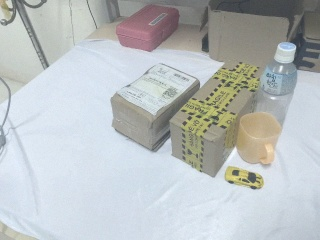bottle: (254, 40, 299, 126)
box: (169, 61, 259, 177), (110, 62, 201, 153), (205, 1, 305, 69), (114, 1, 181, 54), (291, 11, 320, 74)
cup: (235, 111, 282, 166)
toy_car: (224, 166, 264, 189)
